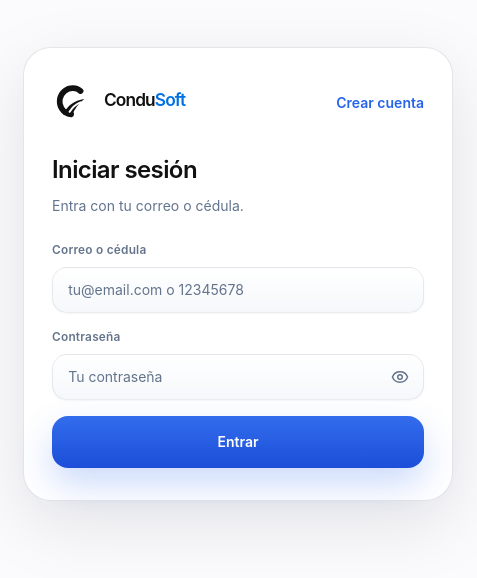
Test: login navigation › stays on login and re-enables the form for incorrect credentials
In the field labelled "Correo o cédula": {"x": 238, "y": 290} x1=52 y1=267 x2=424 y2=313, type "admin@example.com"
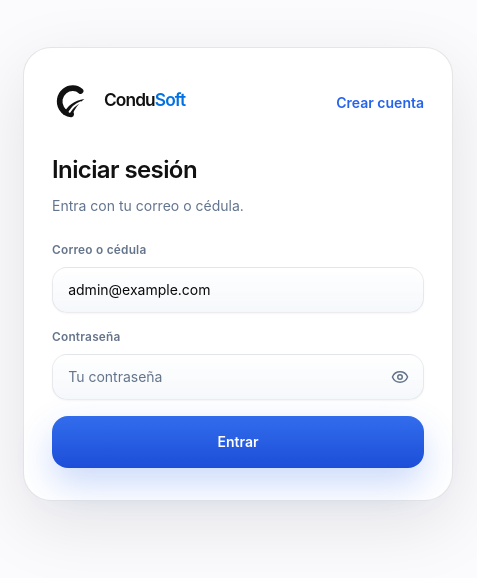
In the password field labelled "Contraseña": {"x": 238, "y": 377} x1=52 y1=354 x2=424 y2=400, type "test-password"
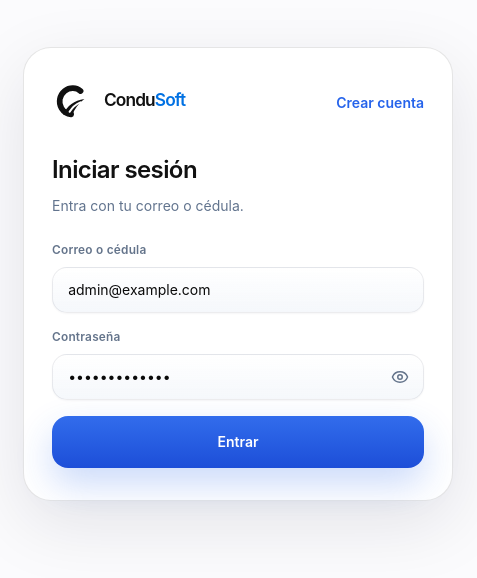
Click the button "Entrar": {"x": 238, "y": 442} x1=52 y1=416 x2=424 y2=468
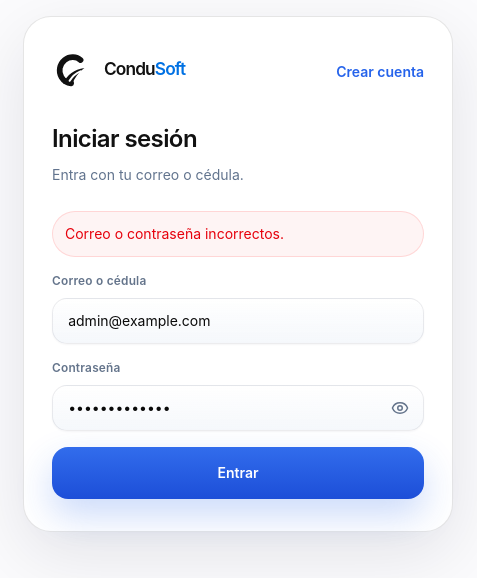
Check: the button "Entrar" is enabled, box x1=52 y1=447 x2=424 y2=499
Check: the text "Correo o contraseña incorrectos." is shown, box x1=52 y1=211 x2=424 y2=257
